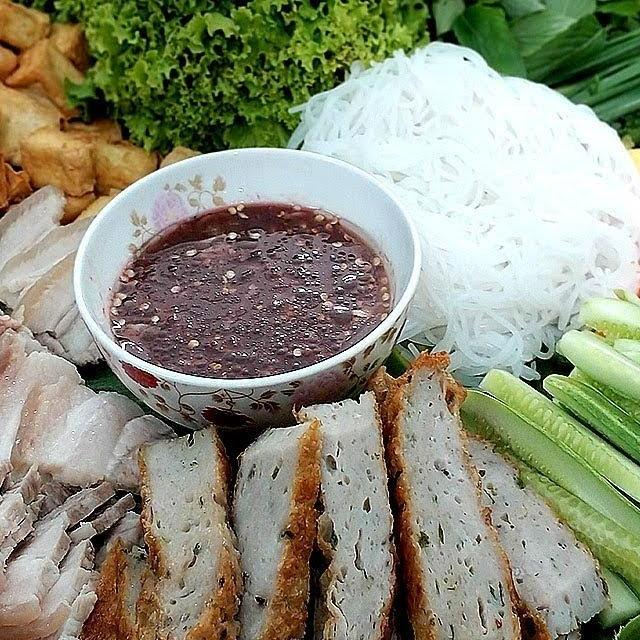bun: (282, 30, 640, 401)
bun dau: (0, 8, 640, 640)
cha com: (63, 336, 609, 640)
dau hu: (0, 0, 212, 323)
thit heo: (0, 211, 187, 505), (0, 289, 149, 640), (0, 174, 122, 373)
